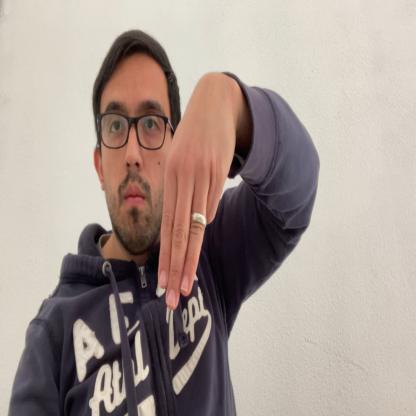M: (158, 75, 236, 310)
